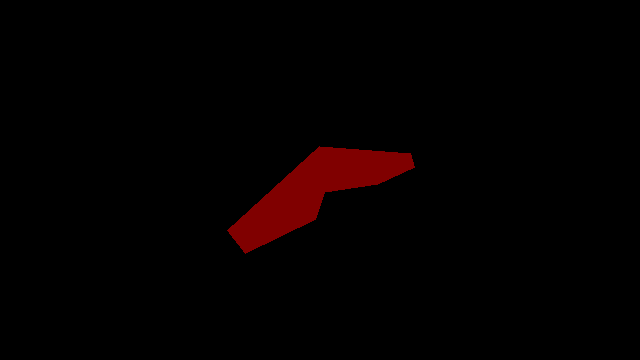fire: (227, 146, 414, 253)
